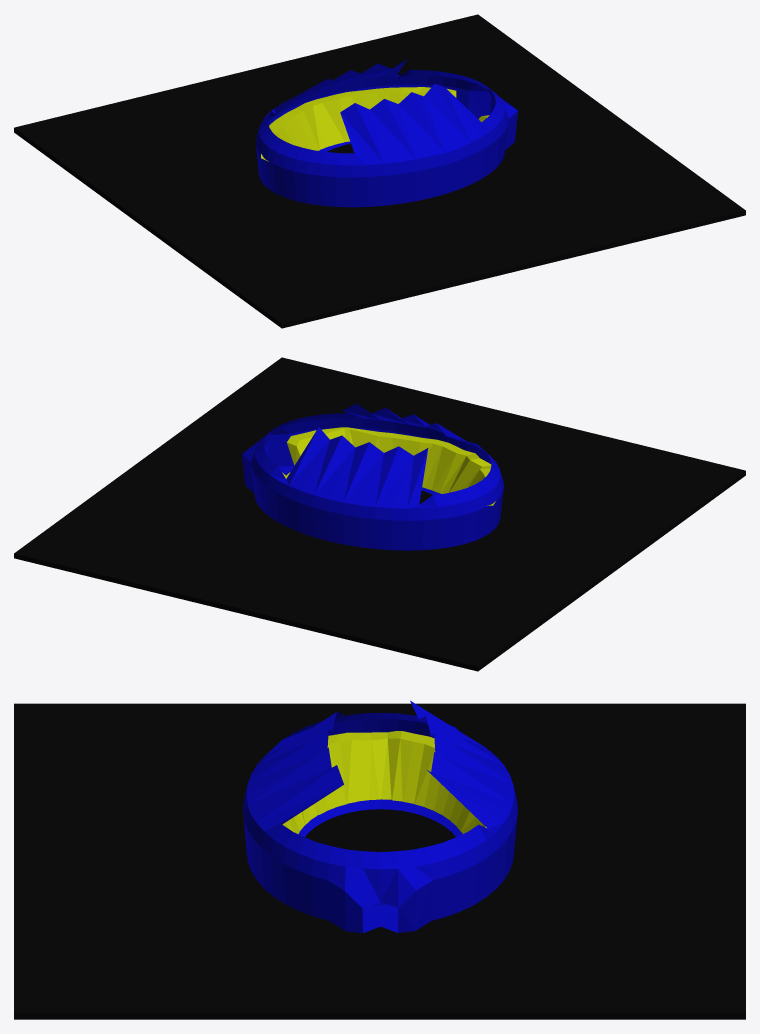
3 views of the same model, one above another, from view 1: azimuth 30°, elevation 25°; view 2: azimuth 150°, elevation 25°; view 3: azimuth 270°, elevation 25° (orthographic). The views are drawn at different scales.
Parts seen in each view (by area): view 1: negro_Material, Torus_Material.003, Torus.002_Material.004; view 2: negro_Material, Torus_Material.003, Torus.002_Material.004; view 3: negro_Material, Torus_Material.003, Torus.002_Material.004.
Boxes of the visible parts, x1,y1,x2,y2 form: negro_Material: (14, 14, 745, 328); Torus_Material.003: (255, 59, 517, 207); Torus.002_Material.004: (261, 87, 489, 161); negro_Material: (14, 357, 745, 671); Torus_Material.003: (242, 403, 503, 550); Torus.002_Material.004: (282, 427, 495, 505); negro_Material: (14, 703, 745, 1019); Torus_Material.003: (243, 700, 517, 933); Torus.002_Material.004: (282, 731, 486, 834).
Bounding box in the file's own units: 200 × 38.08 × 200.
